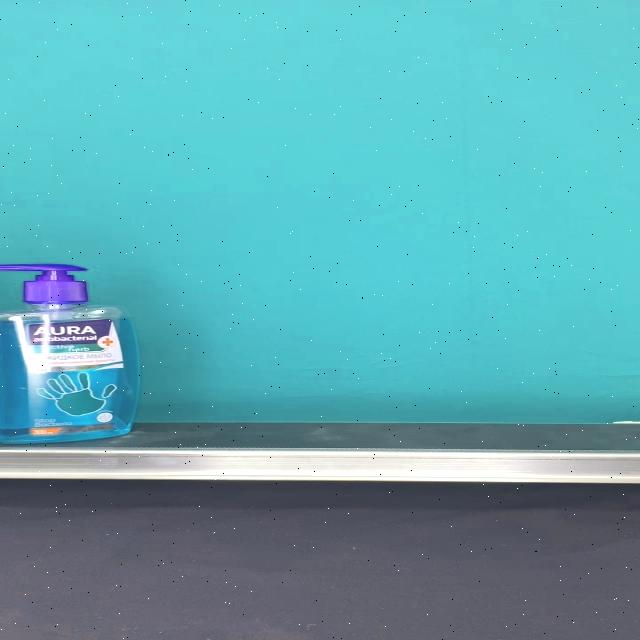Bottle: (0, 263, 141, 443)
Cap: (0, 263, 88, 305)
